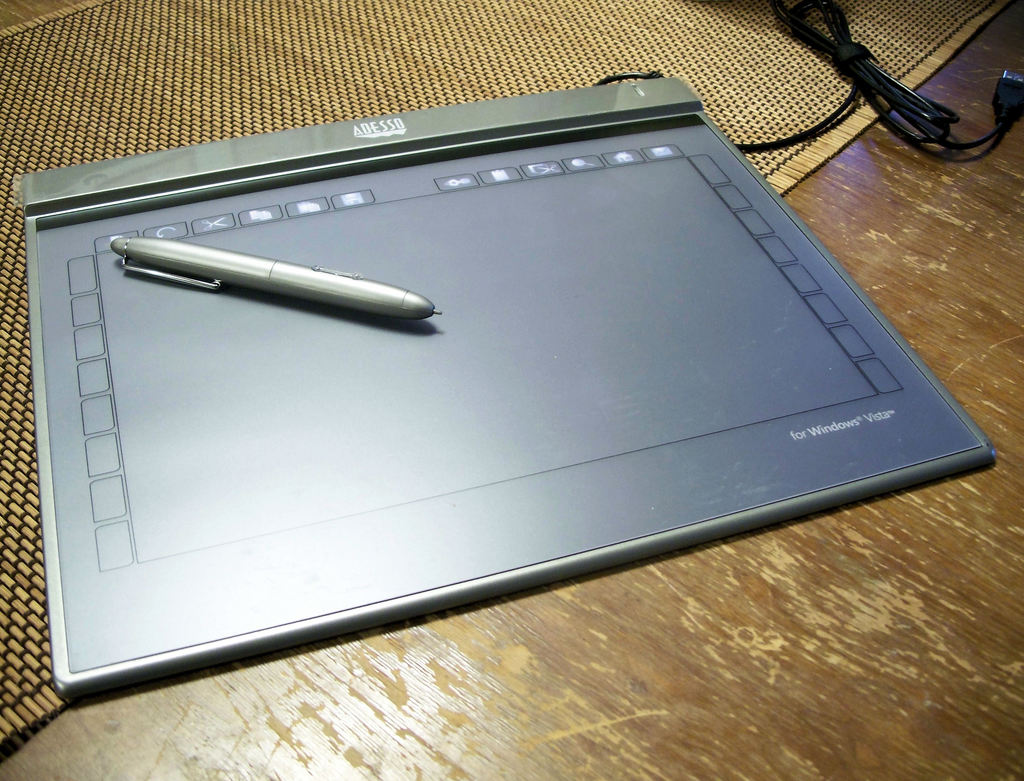Pen: (111, 238, 444, 316)
